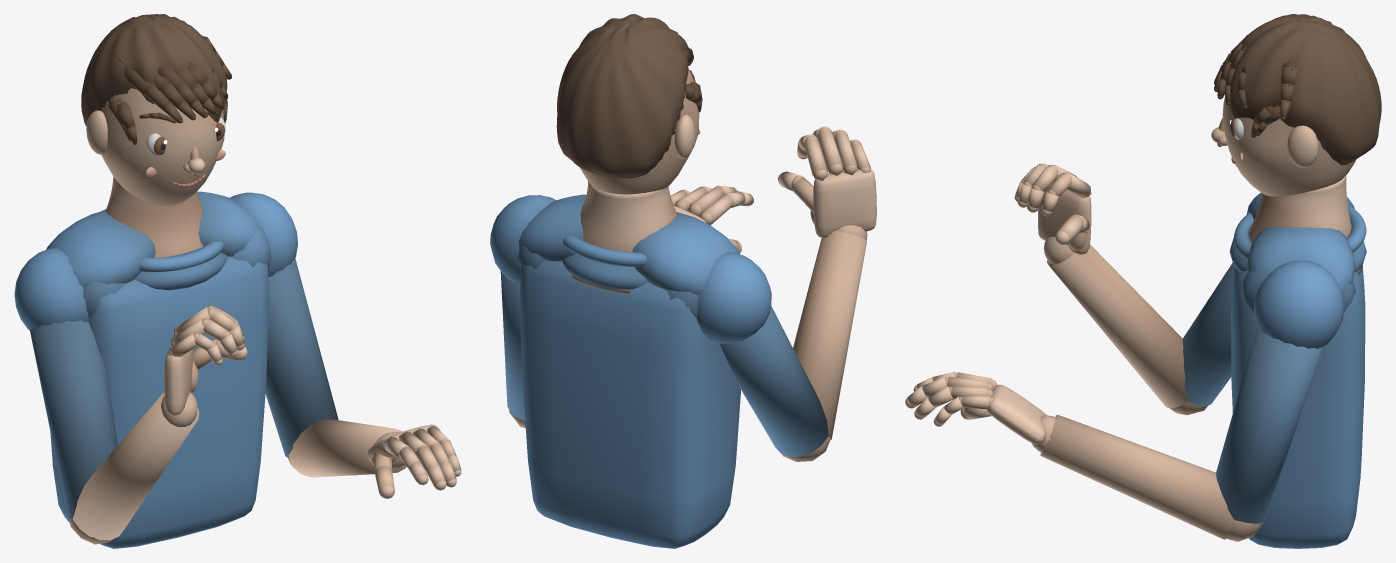
3 views of the same model, side by side, from view 1: azimuth 30°, elevation 25°; view 2: azimuth 150°, elevation 25°; view 3: azimuth 270°, elevation 25° (orthographic).
Visible parts, largest first — view 1: LSC_Body; view 2: LSC_Body; view 3: LSC_Body.
Part boxes in pixels (box(x1,y1,x2,y2)): LSC_Body: box(14, 14, 461, 548); LSC_Body: box(490, 14, 876, 548); LSC_Body: box(905, 14, 1381, 548).
Bounding box in the file's own units: 0.4304 × 0.713 × 0.6104.
